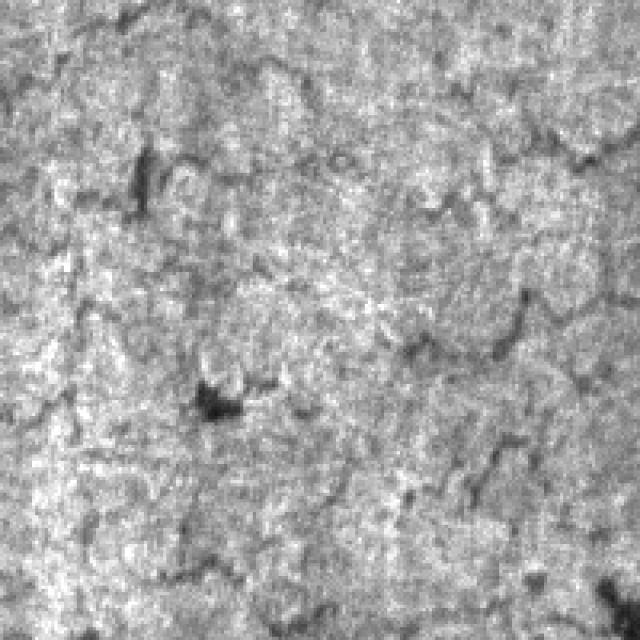crazing: (13, 0, 630, 221), (339, 99, 637, 400), (240, 352, 637, 576), (0, 205, 320, 432)
